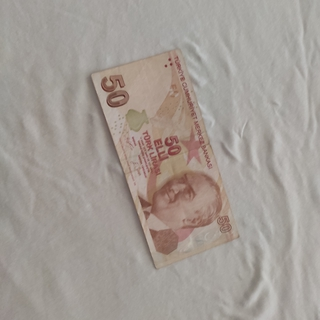50TLFront: (89, 47, 240, 269)
